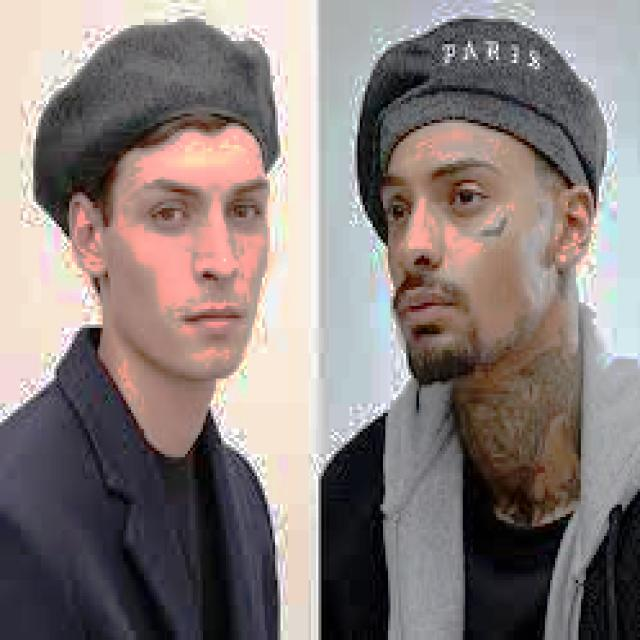TOPI: (350, 9, 604, 240), (26, 10, 280, 230)
